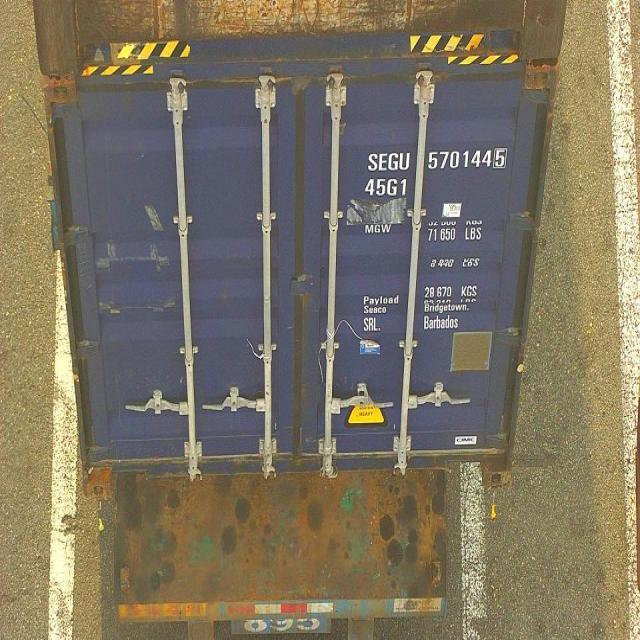ISO: (366, 180, 408, 200)
container_number: (372, 149, 505, 171)
